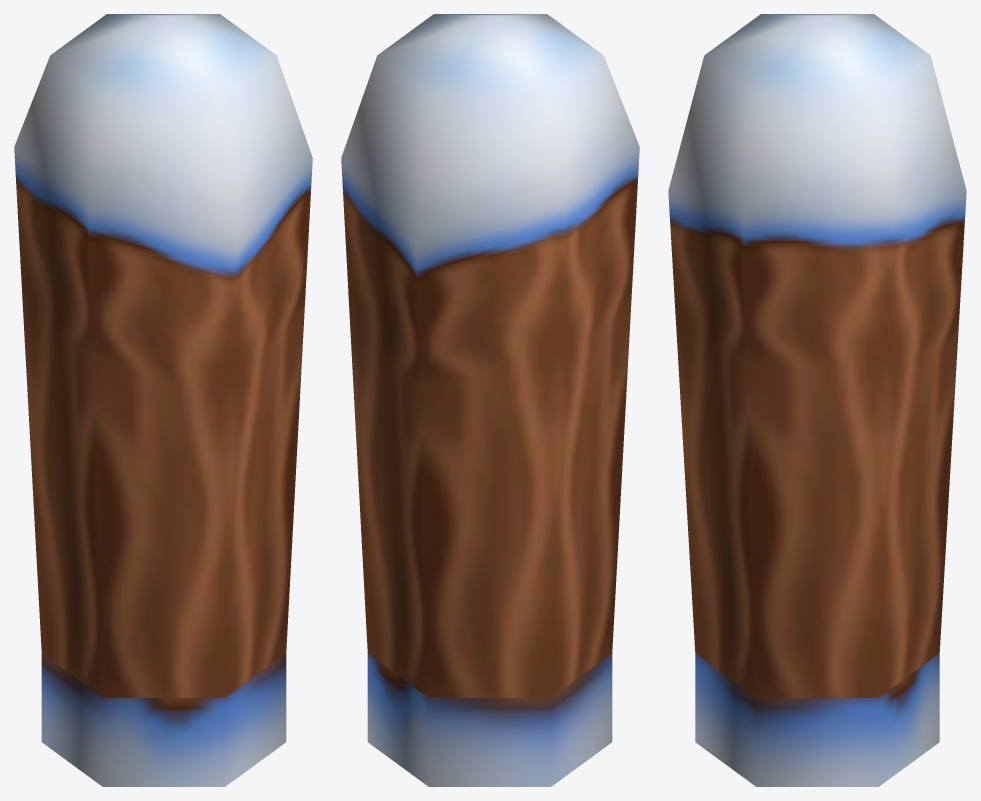
The model's file is Object_Fence2.FBX.
The picture shows the model from 3 angles, left to right: view 1: azimuth 30°, elevation 25°; view 2: azimuth 150°, elevation 25°; view 3: azimuth 270°, elevation 25°; orthographic projection.
Parts seen in each view (by area): view 1: fence; view 2: fence; view 3: fence.
Boxes of the visible parts, <box> form: fence: <box>14,14,312,786</box>; fence: <box>341,14,639,786</box>; fence: <box>668,14,966,786</box>.
Size of the model in its own units: 13.48 by 41.77 by 15.57.
